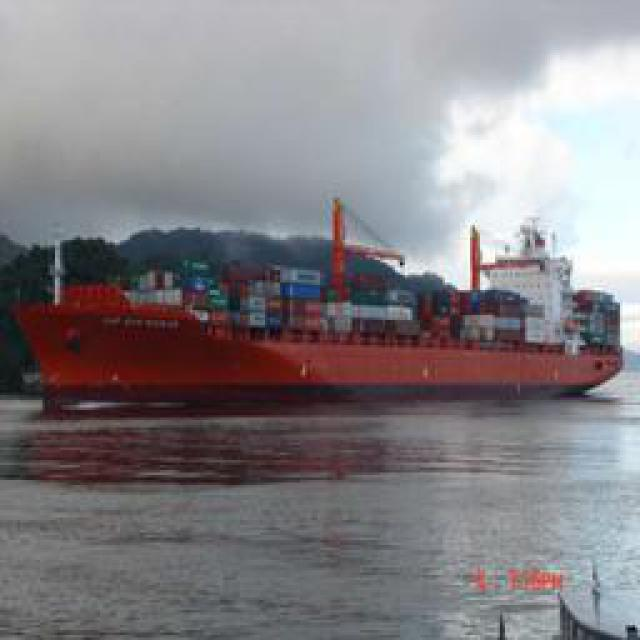Ship: (15, 221, 625, 411)
